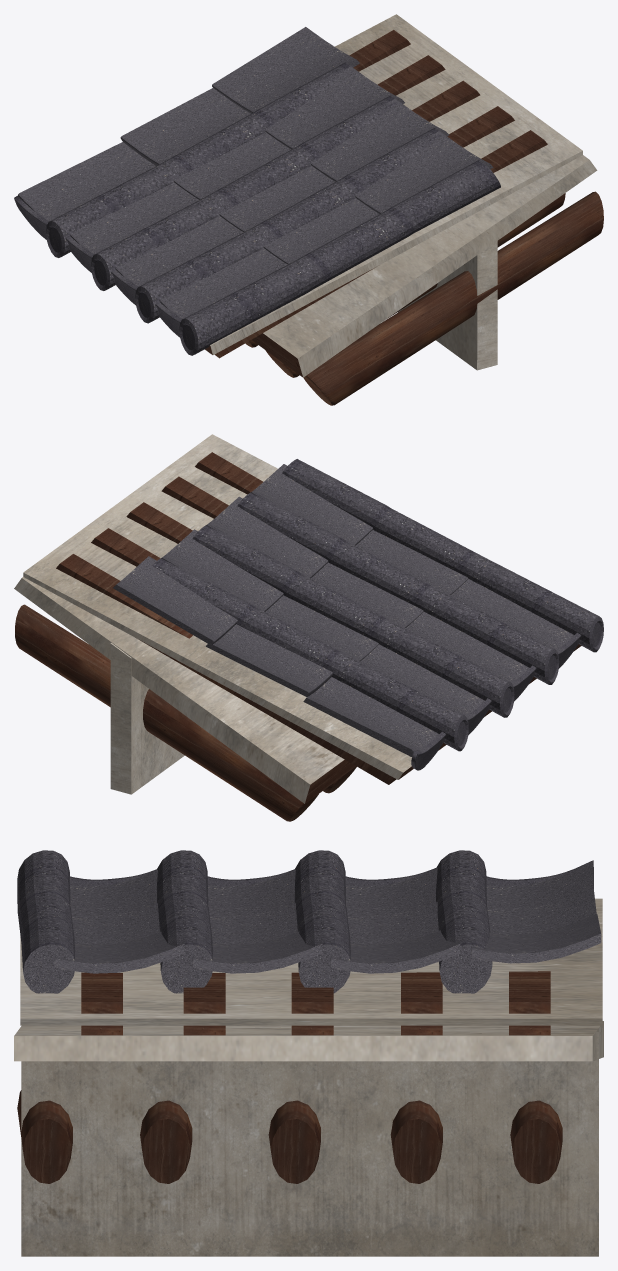
File: SM_Roof_66.fbx
3 views of the same model, one above another, from view 1: azimuth 30°, elevation 25°; view 2: azimuth 150°, elevation 25°; view 3: azimuth 270°, elevation 25° (orthographic). The views are drawn at different scales.
Visible parts, largest first — view 1: SM_Roof_66; view 2: SM_Roof_66; view 3: SM_Roof_66.
Boxes of the visible parts, bbox=[...] form: SM_Roof_66: bbox=[14, 14, 603, 405]; SM_Roof_66: bbox=[14, 434, 603, 821]; SM_Roof_66: bbox=[14, 850, 603, 1256].
Size of the model in its own units: 323 by 257 by 158.
Materials: 4 (4 with a texture image).
